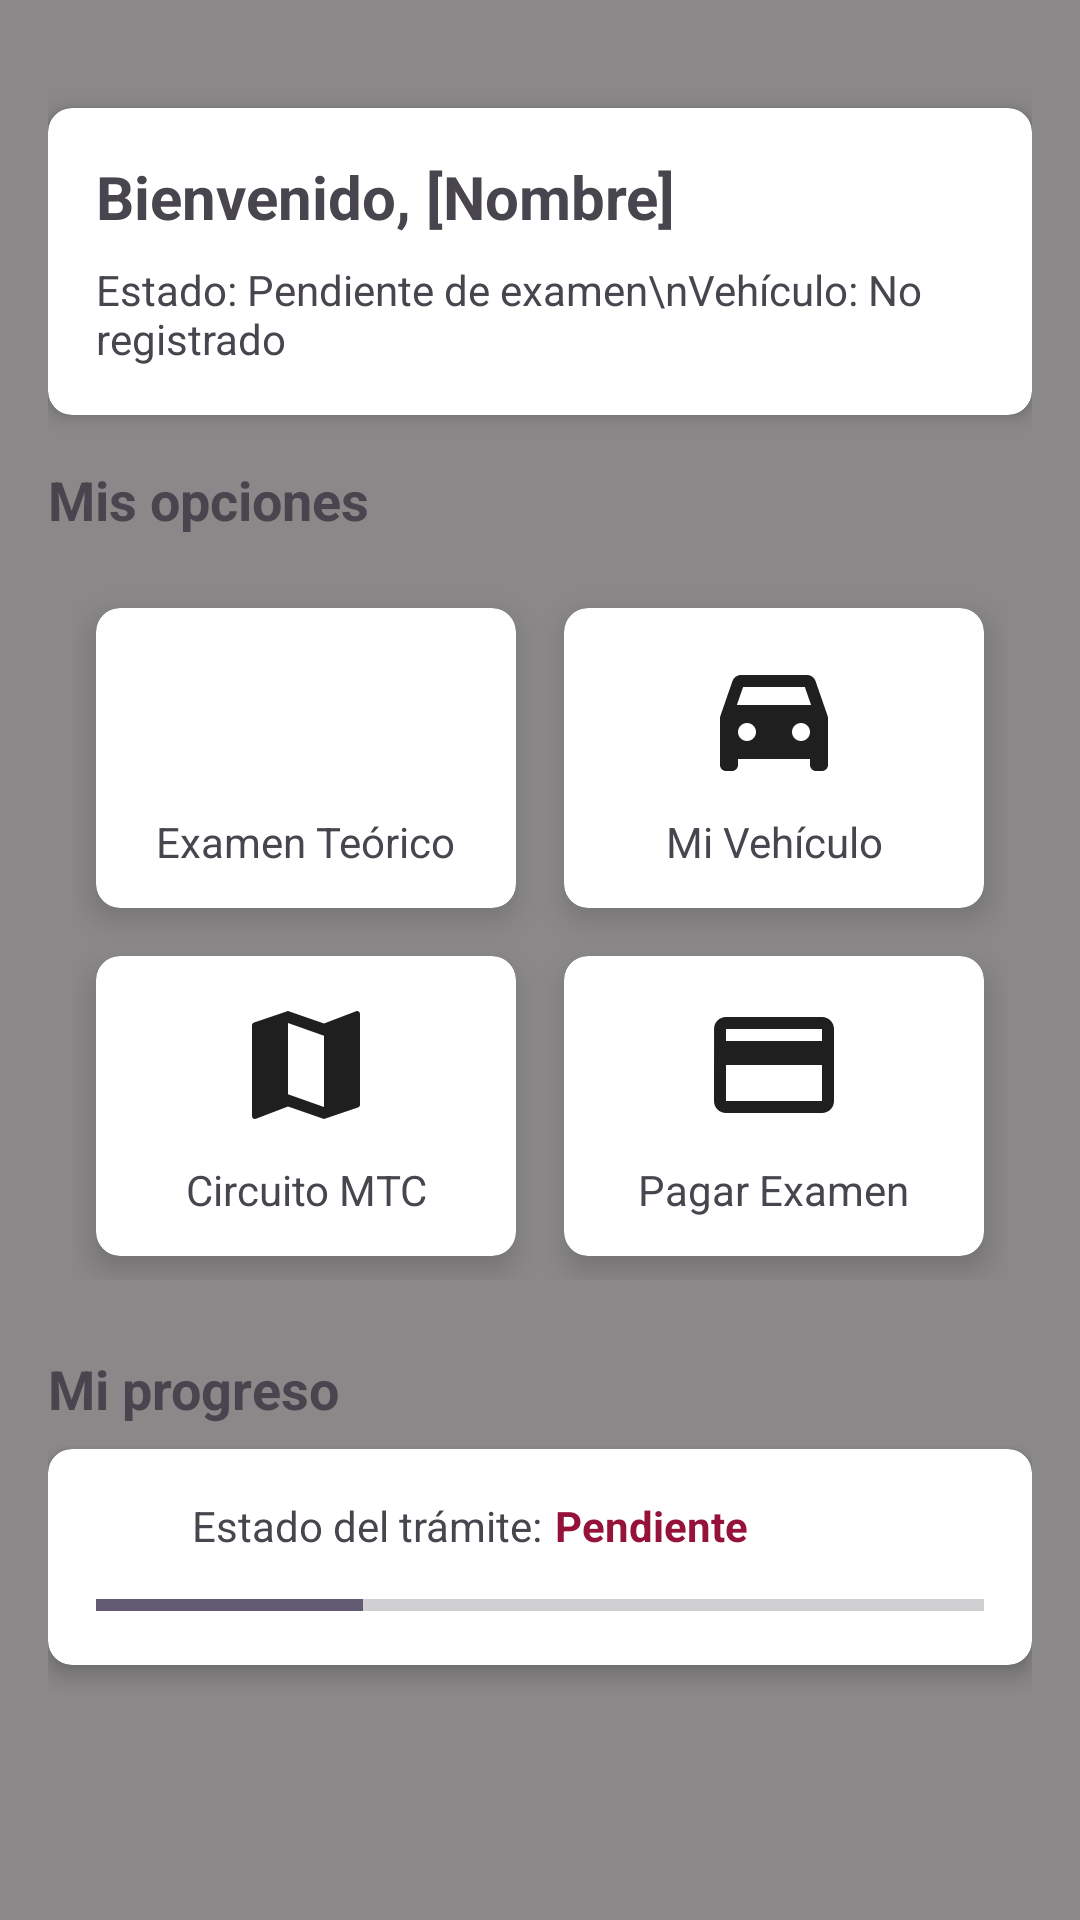

Screen size 1080 × 1920. Icon name, then its box in pixels as bbox=(x1, y1, x2, y2):
car: bbox=(720, 675, 828, 771)
map: bbox=(252, 1011, 360, 1119)
payment: bbox=(714, 1017, 834, 1113)
